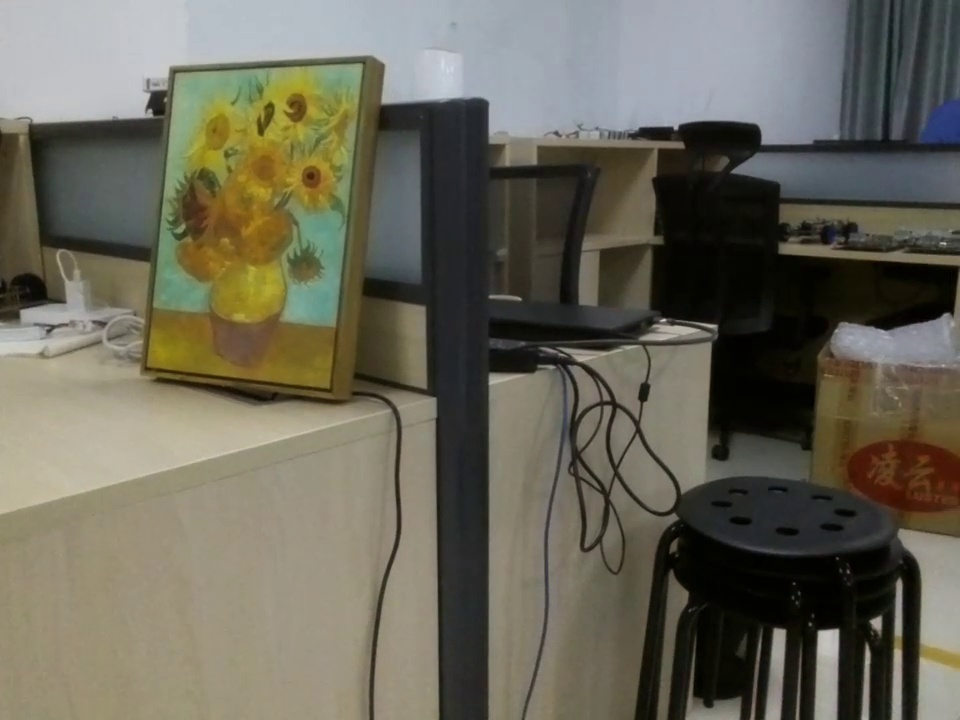painting: (141, 53, 382, 402)
